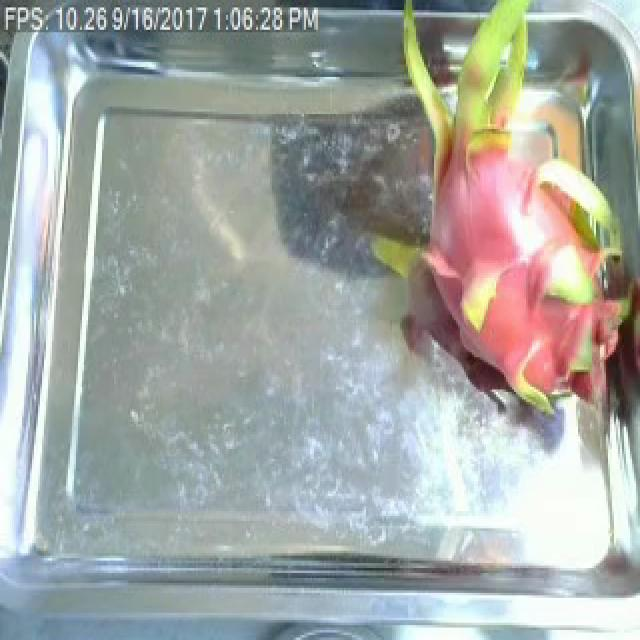fruit: (358, 5, 640, 432)
